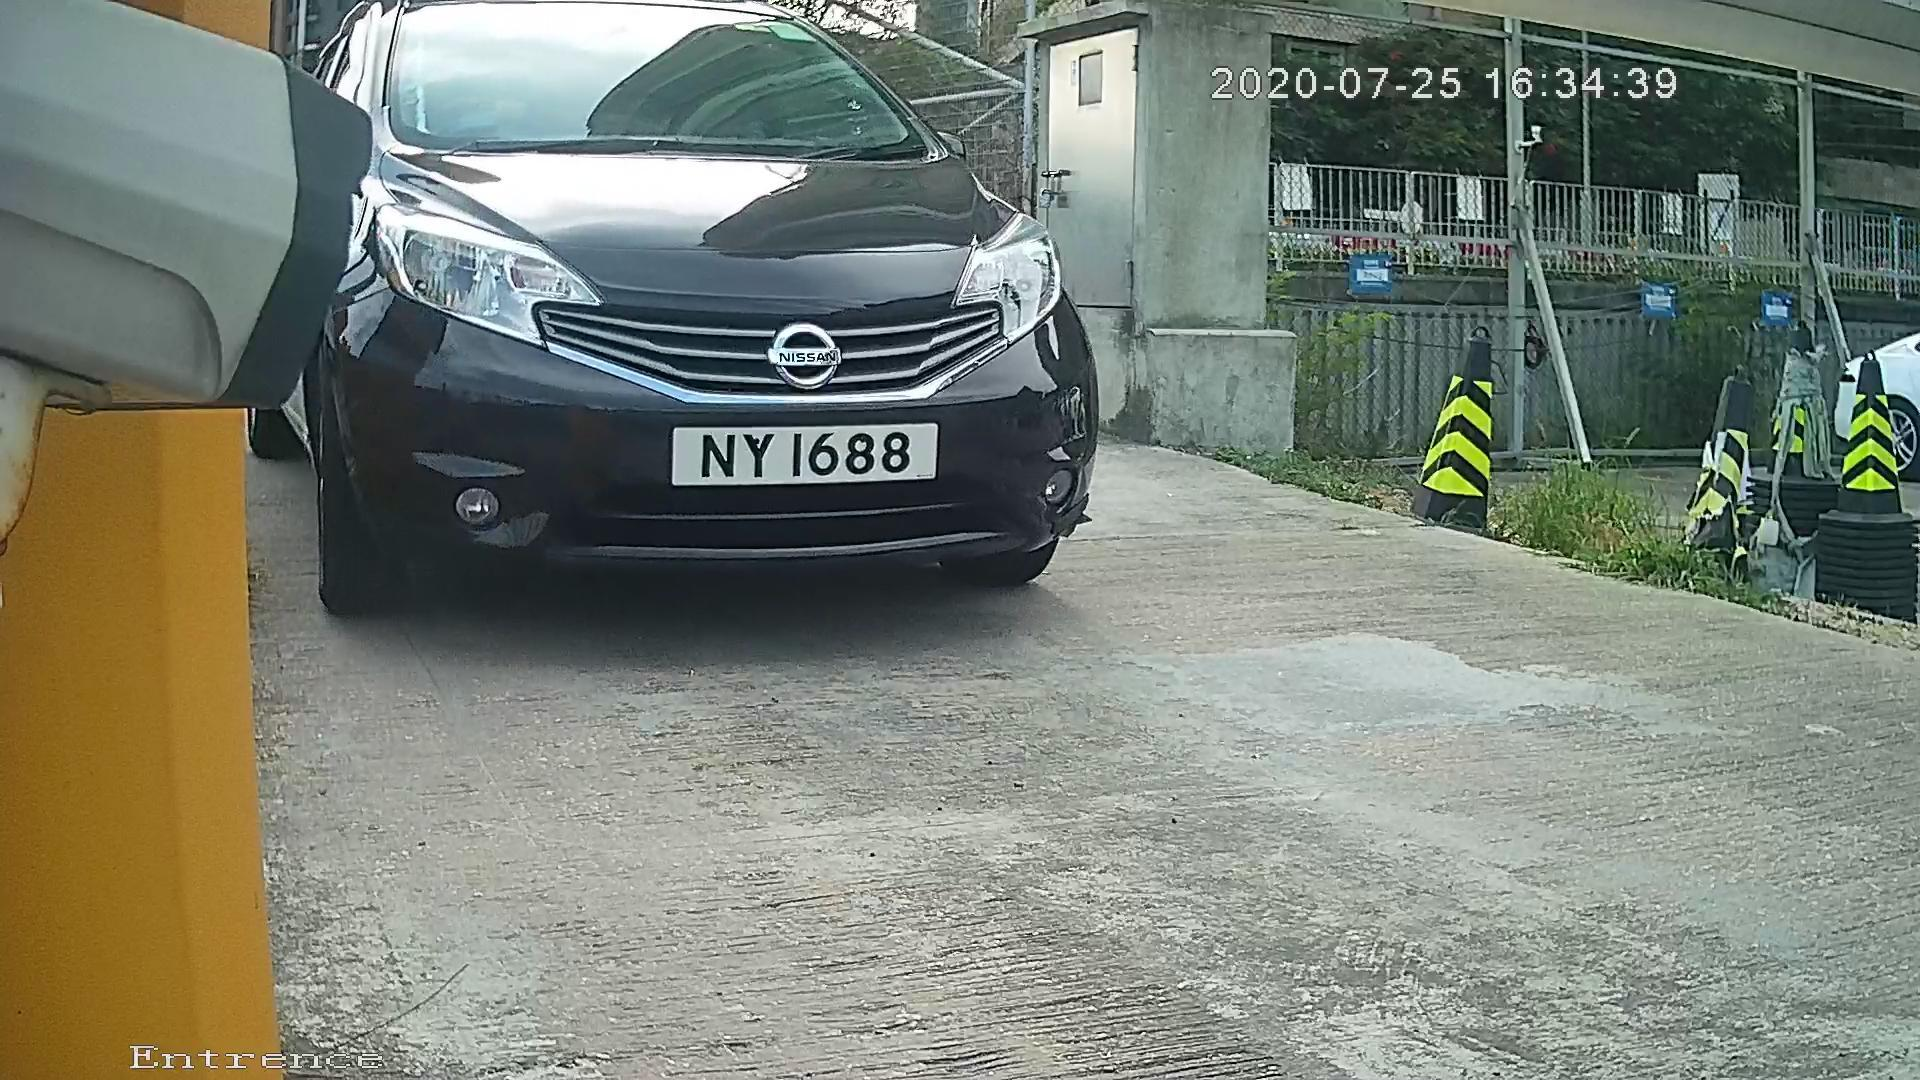privatecar: (232, 5, 1303, 637)
